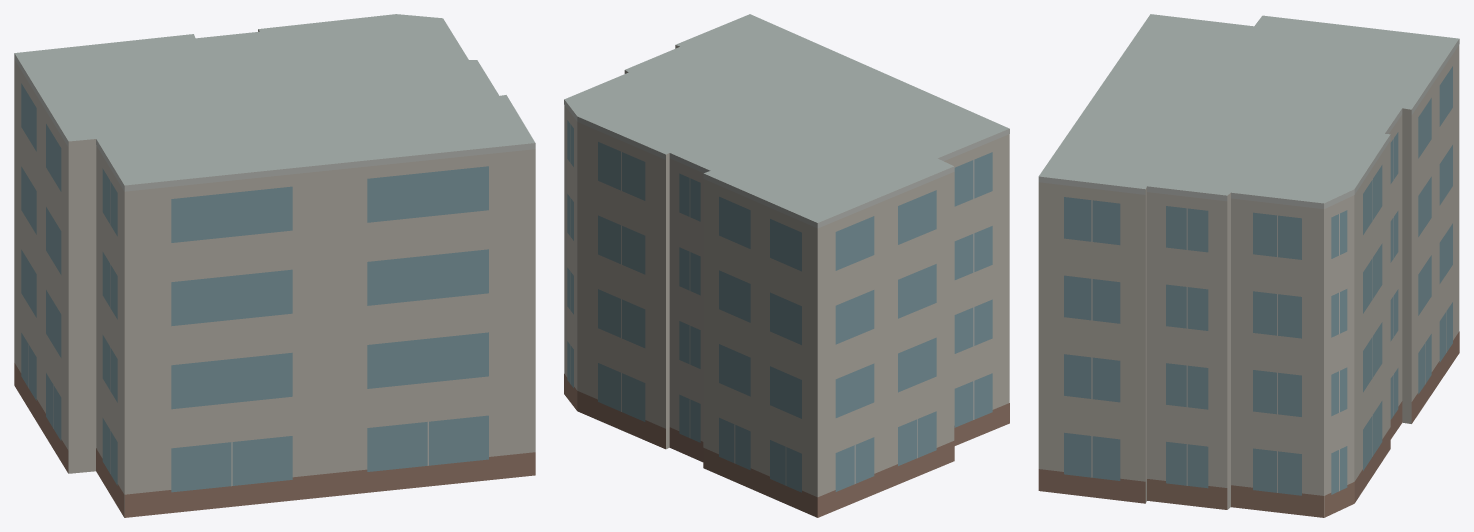
File: survey-upis-33008451.glb
3 renders of one model, left to right at view 1: azimuth 30°, elevation 25°; view 2: azimuth 150°, elevation 25°; view 3: azimuth 270°, elevation 25°, orthographic. The views are drawn at different scales.
Parts seen in each view (by area): view 1: survey-upis-33008451.tmp; view 2: survey-upis-33008451.tmp; view 3: survey-upis-33008451.tmp.
Part boxes in pixels (box(x1,y1,x2,y2)): survey-upis-33008451.tmp: box(14, 14, 535, 517); survey-upis-33008451.tmp: box(564, 14, 1009, 517); survey-upis-33008451.tmp: box(1038, 14, 1459, 517).
Size of the model in its own units: 17.2 by 13.3 by 16.15.
